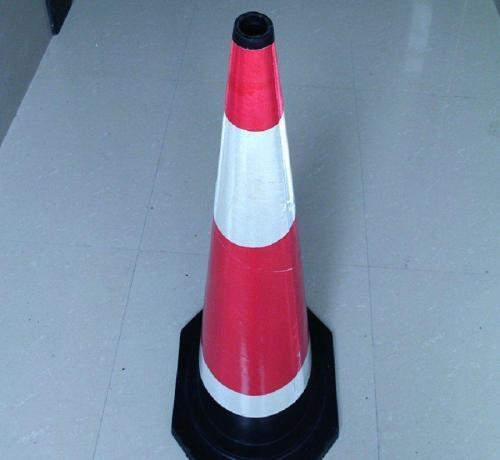cone_barrel: (170, 22, 324, 446)
